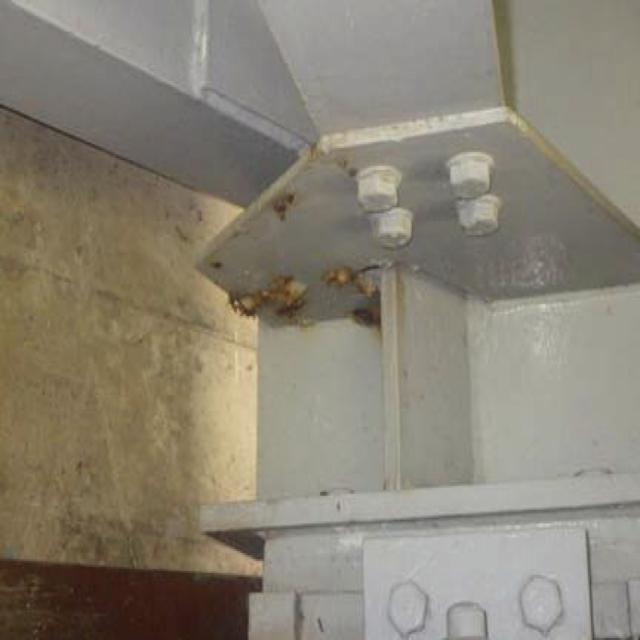corrosion: (208, 244, 383, 336)
